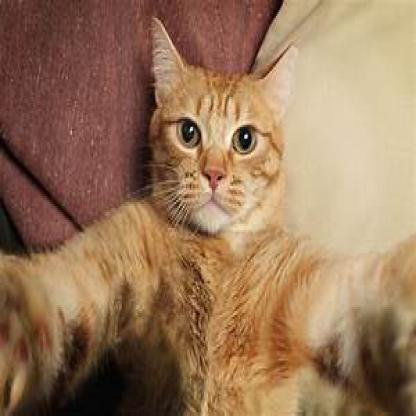cat: (18, 38, 374, 398)
